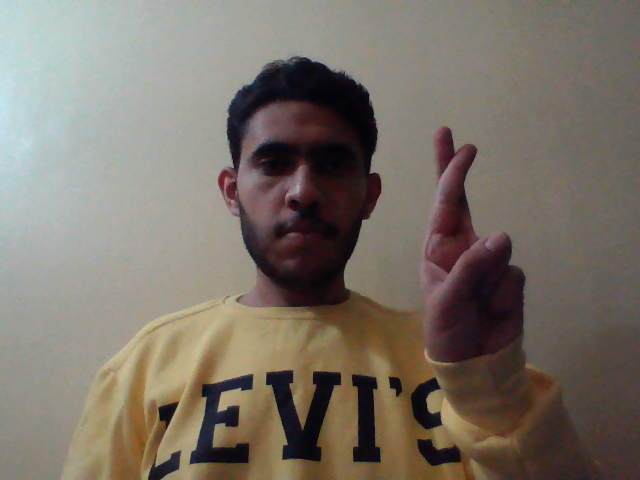R: (413, 118, 532, 384)
